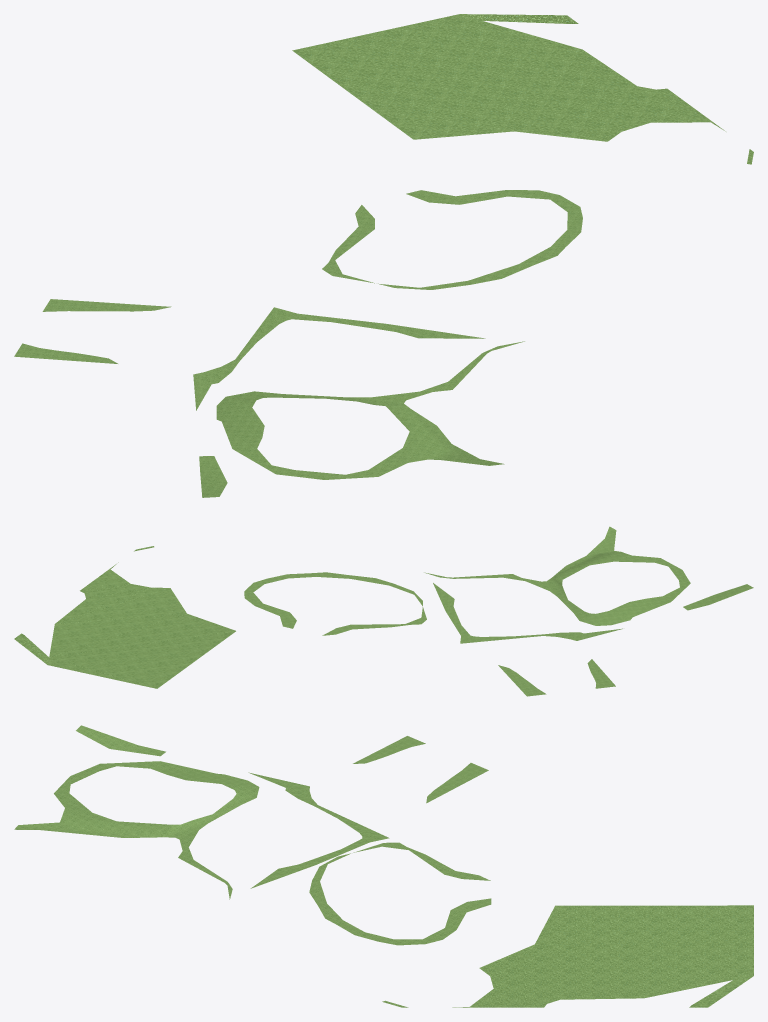
File: kd_stage_135ebf_0_4_bounded.glb
3 views of the same model, one above another, from view 1: azimuth 30°, elevation 25°; view 2: azimuth 150°, elevation 25°; view 3: azimuth 270°, elevation 25° (orthographic). The views are drawn at different scales.
Parts seen in each view (by area): view 1: kd_stage_135ebf_0_4_bounded; view 2: kd_stage_135ebf_0_4_bounded; view 3: kd_stage_135ebf_0_4_bounded.
Part boxes in pixels (left/top/right/bottom): kd_stage_135ebf_0_4_bounded: left=14, top=14, right=753, bottom=497; kd_stage_135ebf_0_4_bounded: left=14, top=526, right=753, bottom=696; kd_stage_135ebf_0_4_bounded: left=14, top=725, right=753, bottom=1007.
Size of the model in its own units: 15.81 by 0.7097 by 16.55.
Materials: 1 (1 with a texture image).
